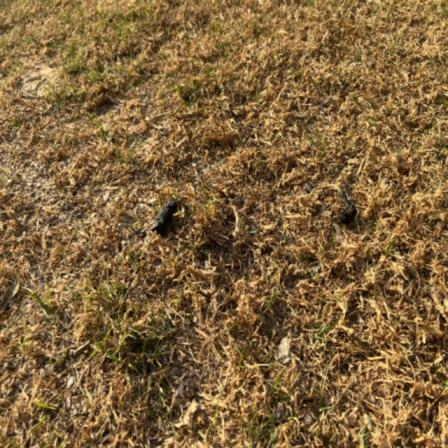dog-poop: (152, 195, 181, 233), (334, 194, 360, 225)
